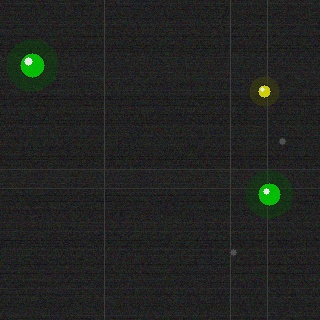green_normal: (18, 51, 46, 79), (256, 181, 282, 207)
yellow_warning: (256, 83, 272, 99)
